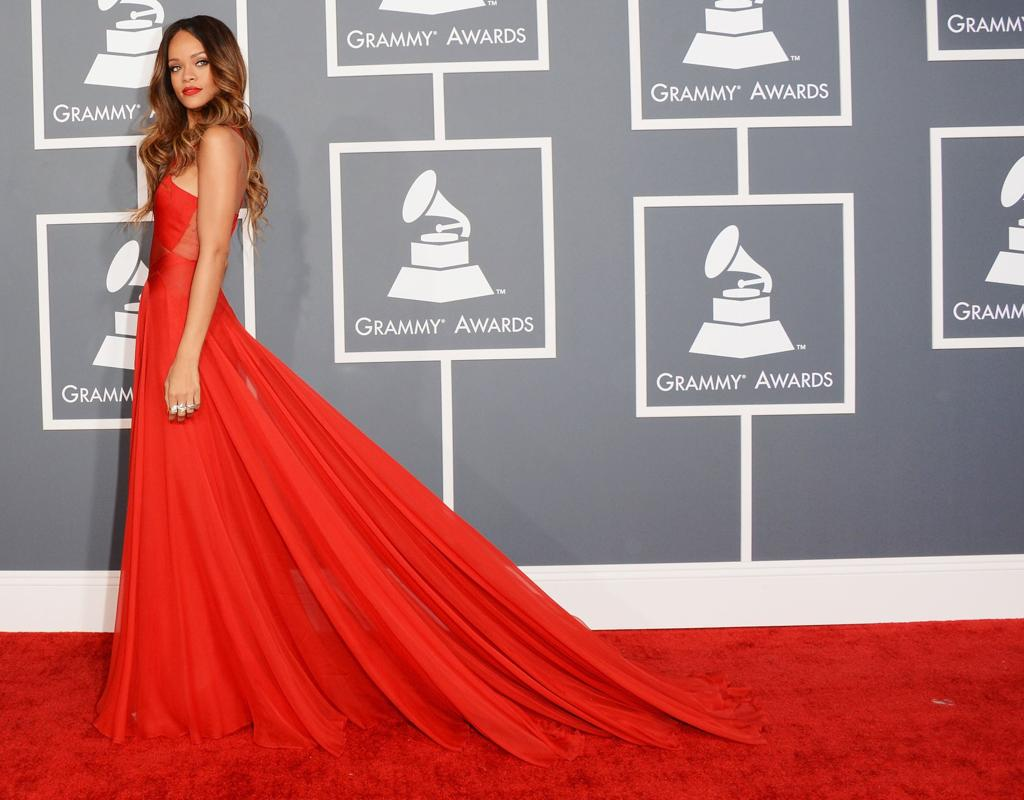face: (167, 39, 223, 108)
